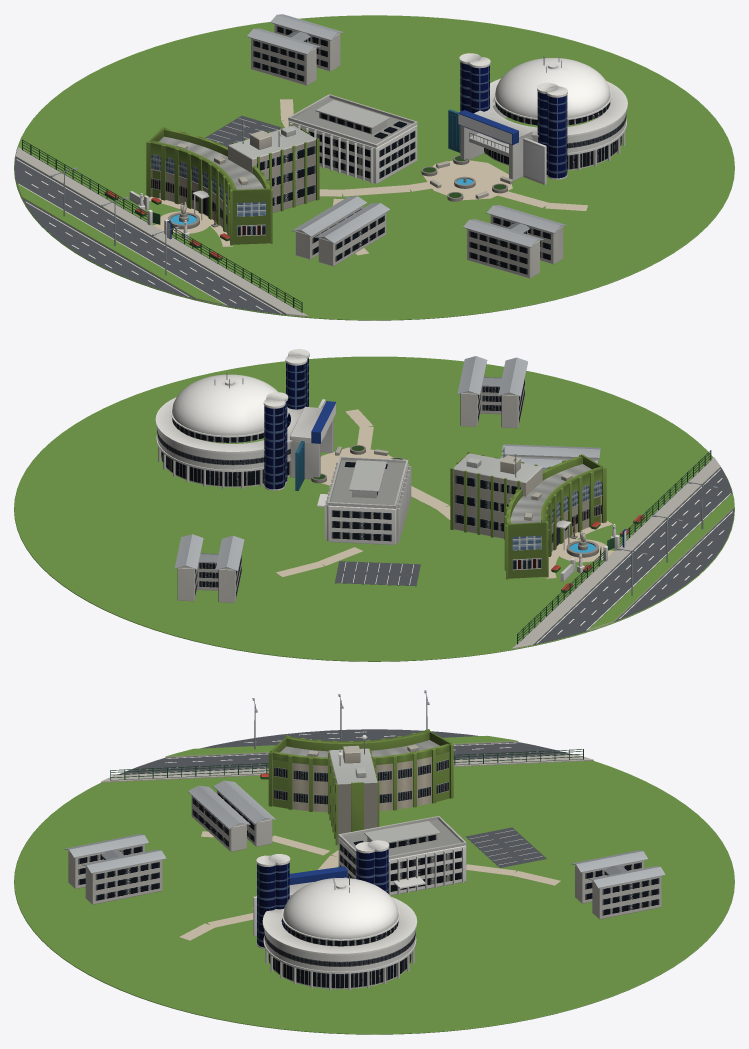
File: unifor-campus.glb
3 renders of one model, top to bottom at view 1: azimuth 30°, elevation 25°; view 2: azimuth 150°, elevation 25°; view 3: azimuth 270°, elevation 25°, orthographic.
Visible parts, largest first — view 1: Chao_Gramado, Centro_Convivencia, Reitoria, Av_Washington_Soares, Blocos_Aula, Biblioteca_Central, Chao_Pisos, Jardim_Reitoria, Gradil_Verde; view 2: Chao_Gramado, Centro_Convivencia, Av_Washington_Soares, Reitoria, Blocos_Aula, Biblioteca_Central, Chao_Pisos, Jardim_Reitoria, Gradil_Verde; view 3: Chao_Gramado, Centro_Convivencia, Reitoria, Blocos_Aula, Av_Washington_Soares, Biblioteca_Central, Chao_Pisos, Gradil_Verde.
Part boxes in pixels (left/top/right/bottom): Chao_Gramado: left=14, top=15, right=734, bottom=320; Centro_Convivencia: left=448, top=53, right=627, bottom=184; Reitoria: left=146, top=120, right=319, bottom=245; Av_Washington_Soares: left=14, top=147, right=308, bottom=316; Blocos_Aula: left=246, top=14, right=567, bottom=278; Biblioteca_Central: left=288, top=94, right=417, bottom=183; Chao_Pisos: left=143, top=99, right=587, bottom=255; Jardim_Reitoria: left=104, top=155, right=512, bottom=260; Gradil_Verde: left=22, top=139, right=302, bottom=312; Chao_Gramado: left=14, top=356, right=734, bottom=661; Centro_Convivencia: left=155, top=349, right=335, bottom=490; Av_Washington_Soares: left=512, top=457, right=734, bottom=648; Reitoria: left=450, top=447, right=606, bottom=579; Blocos_Aula: left=174, top=356, right=601, bottom=602; Biblioteca_Central: left=317, top=456, right=411, bottom=544; Chao_Pisos: left=276, top=409, right=614, bottom=586; Jardim_Reitoria: left=311, top=445, right=644, bottom=592; Gradil_Verde: left=517, top=450, right=711, bottom=644; Chao_Gramado: left=14, top=760, right=734, bottom=1034; Centro_Convivencia: left=253, top=840, right=417, bottom=990; Reitoria: left=268, top=729, right=453, bottom=845; Blocos_Aula: left=64, top=780, right=665, bottom=919; Av_Washington_Soares: left=101, top=729, right=593, bottom=782; Biblioteca_Central: left=338, top=816, right=466, bottom=895; Chao_Pisos: left=179, top=827, right=560, bottom=940; Gradil_Verde: left=110, top=749, right=583, bottom=780.
Bounding box in the file's own units: 66.8 × 8.72 × 66.8.
25 materials, 1 textured.
